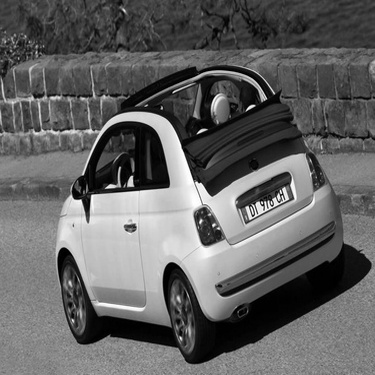car: (45, 51, 349, 369)
